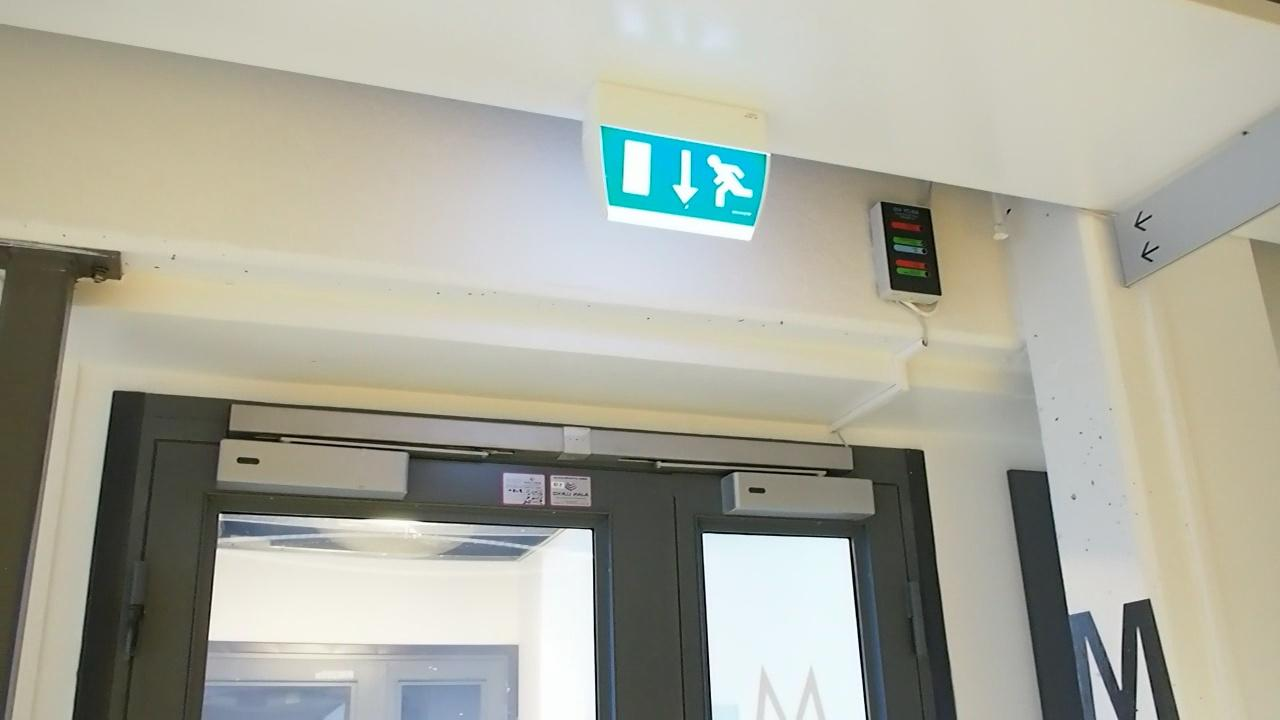exit: (598, 132, 771, 226)
